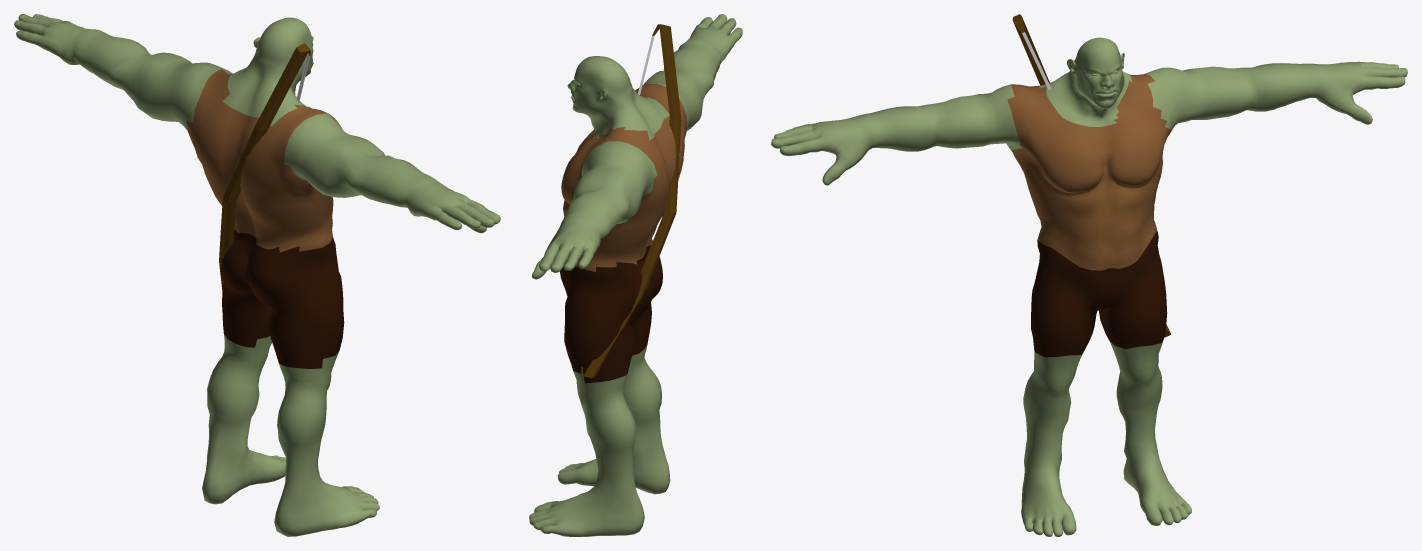
File: bow_orc.glb
The picture shows the model from 3 angles, left to right: view 1: azimuth 30°, elevation 25°; view 2: azimuth 150°, elevation 25°; view 3: azimuth 270°, elevation 25°; orthographic projection. The views are drawn at different scales.
Visible parts, largest first — view 1: Brute Orc, Cube.004; view 2: Brute Orc, Cube.004; view 3: Brute Orc, Cube.004.
Boxes of the visible parts, x1,y1,x2,y2 form: Brute Orc: [14, 14, 500, 536]; Cube.004: [219, 43, 310, 289]; Brute Orc: [529, 14, 742, 536]; Cube.004: [581, 24, 681, 378]; Brute Orc: [771, 37, 1407, 536]; Cube.004: [1012, 14, 1171, 337].
Bounding box in the file's own units: 2.93 × 7.22 × 8.62.
